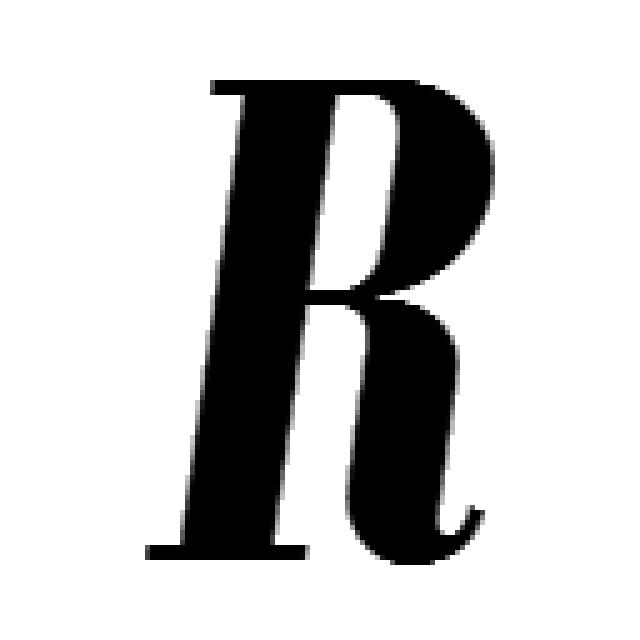R: (140, 65, 500, 570)
